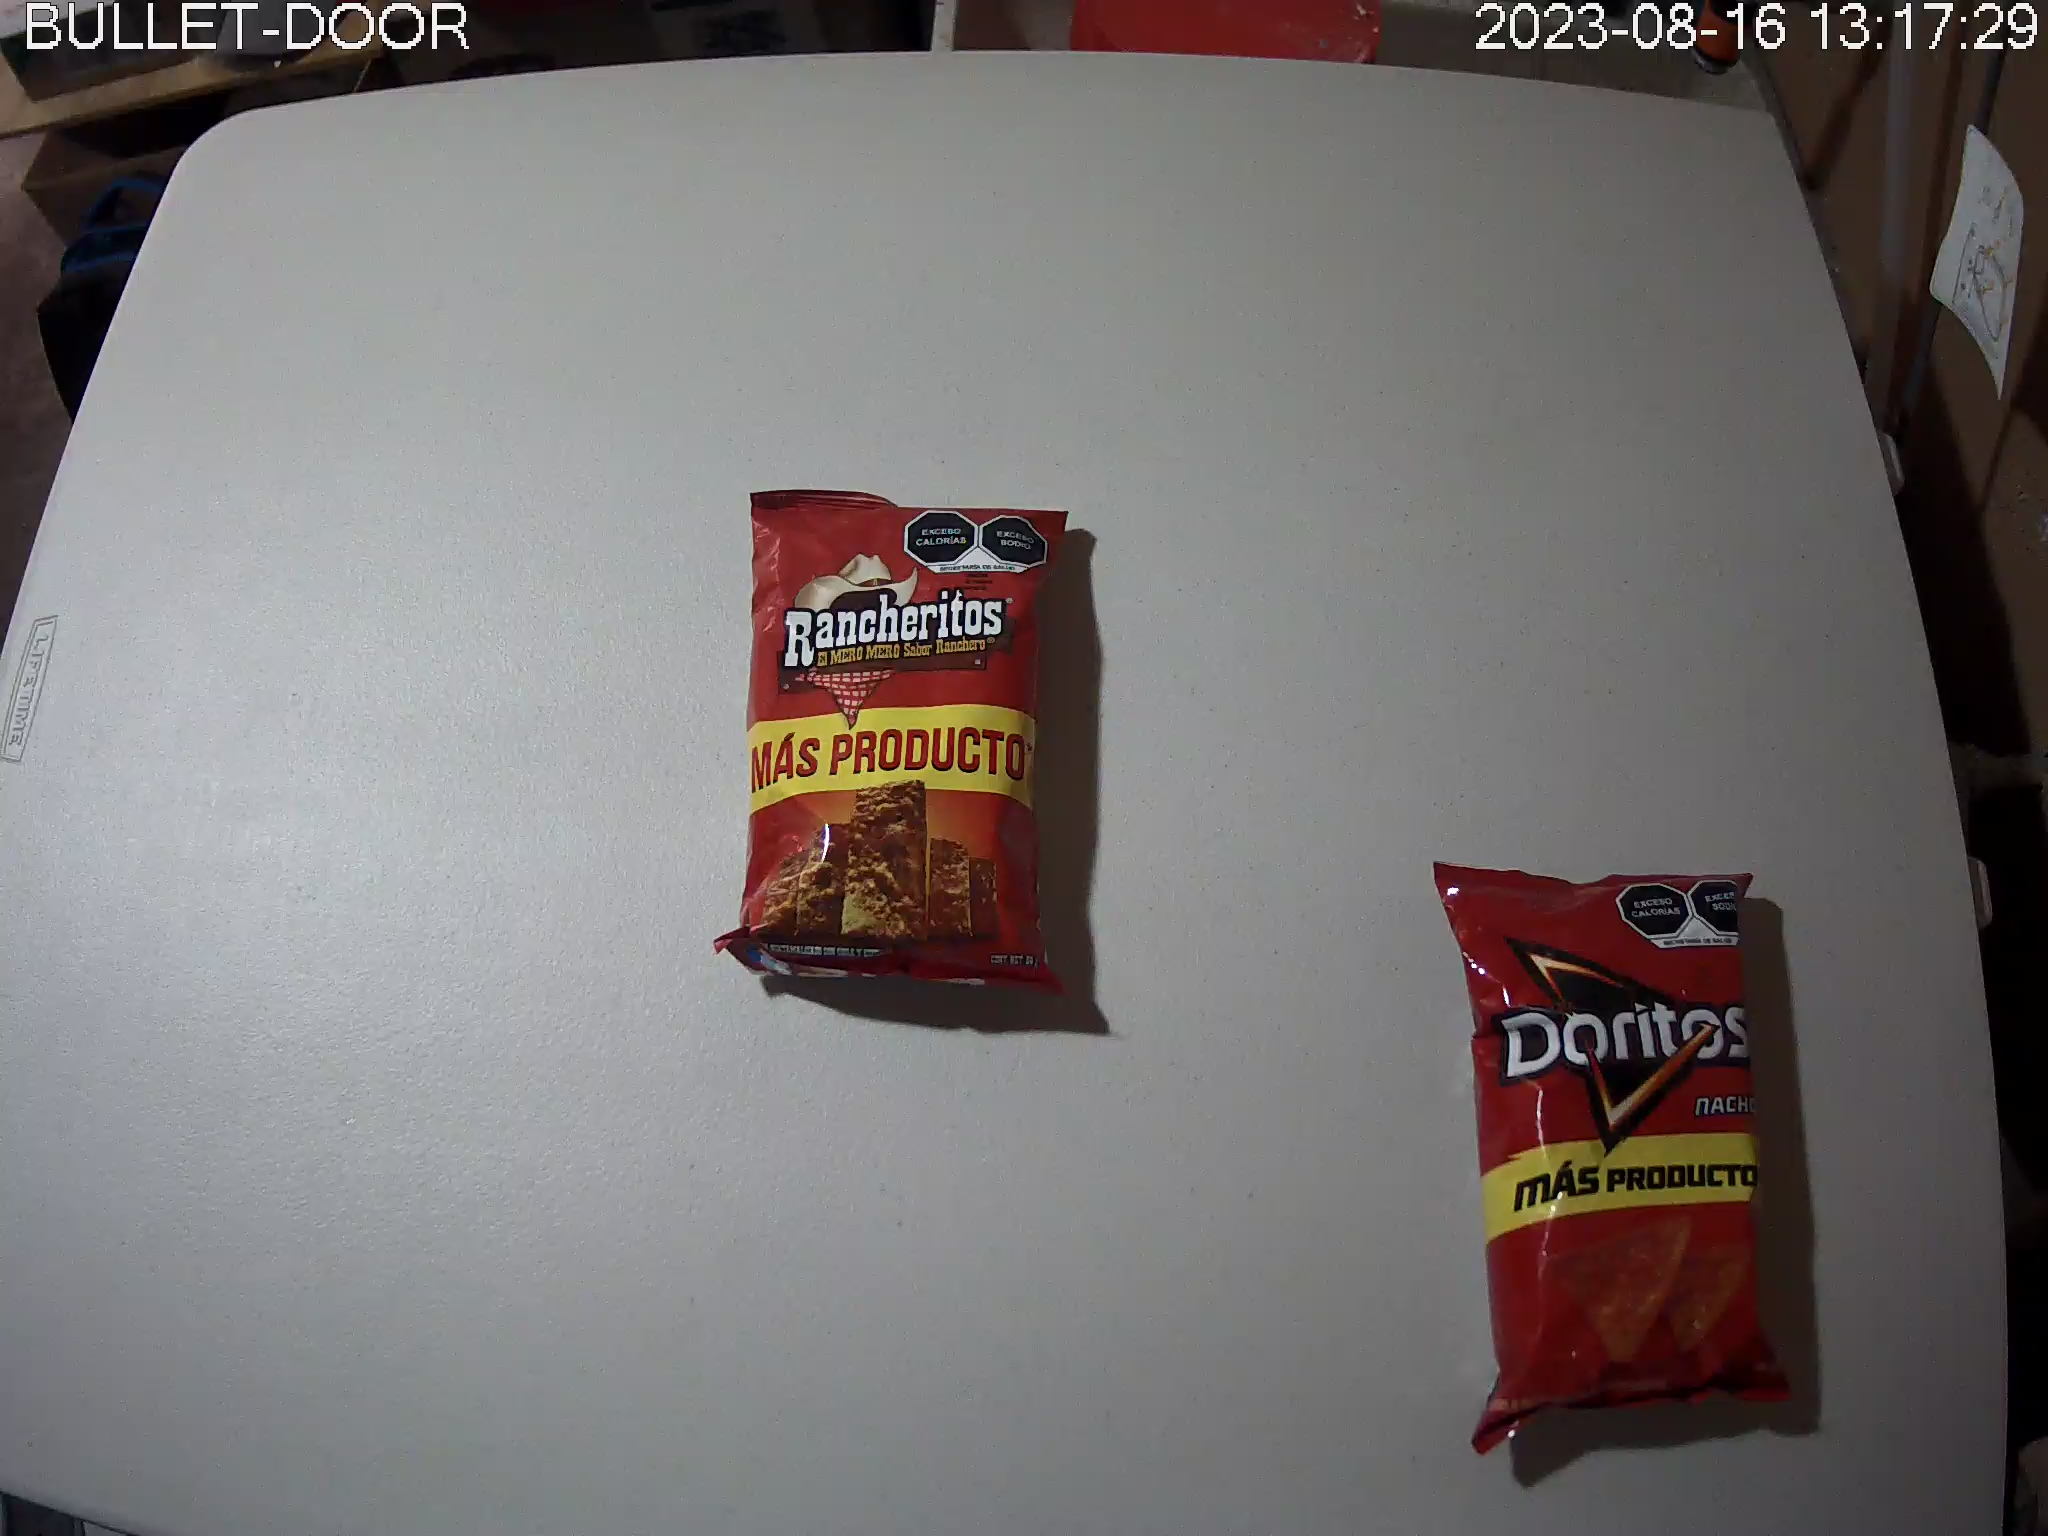DoritosN_61_F: (1429, 858, 1800, 1452)
Rancheritos_58_F: (714, 490, 1076, 1004)
